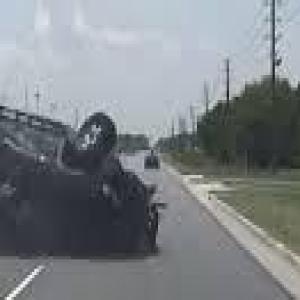critical: (0, 72, 163, 262)
